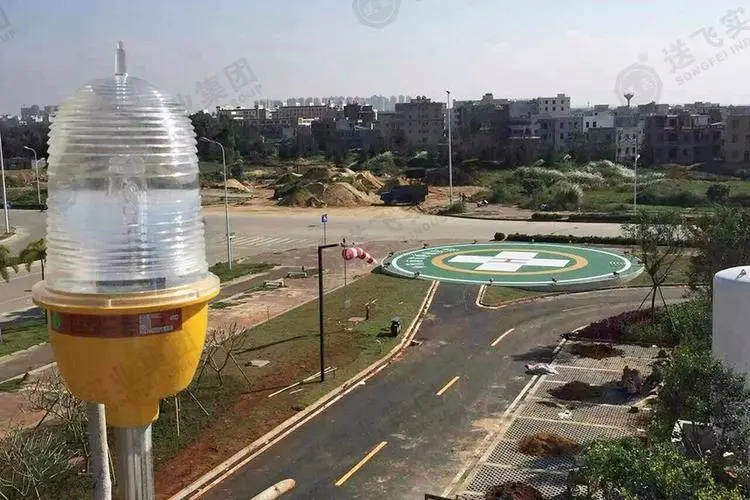Apron: (432, 245, 588, 275)
